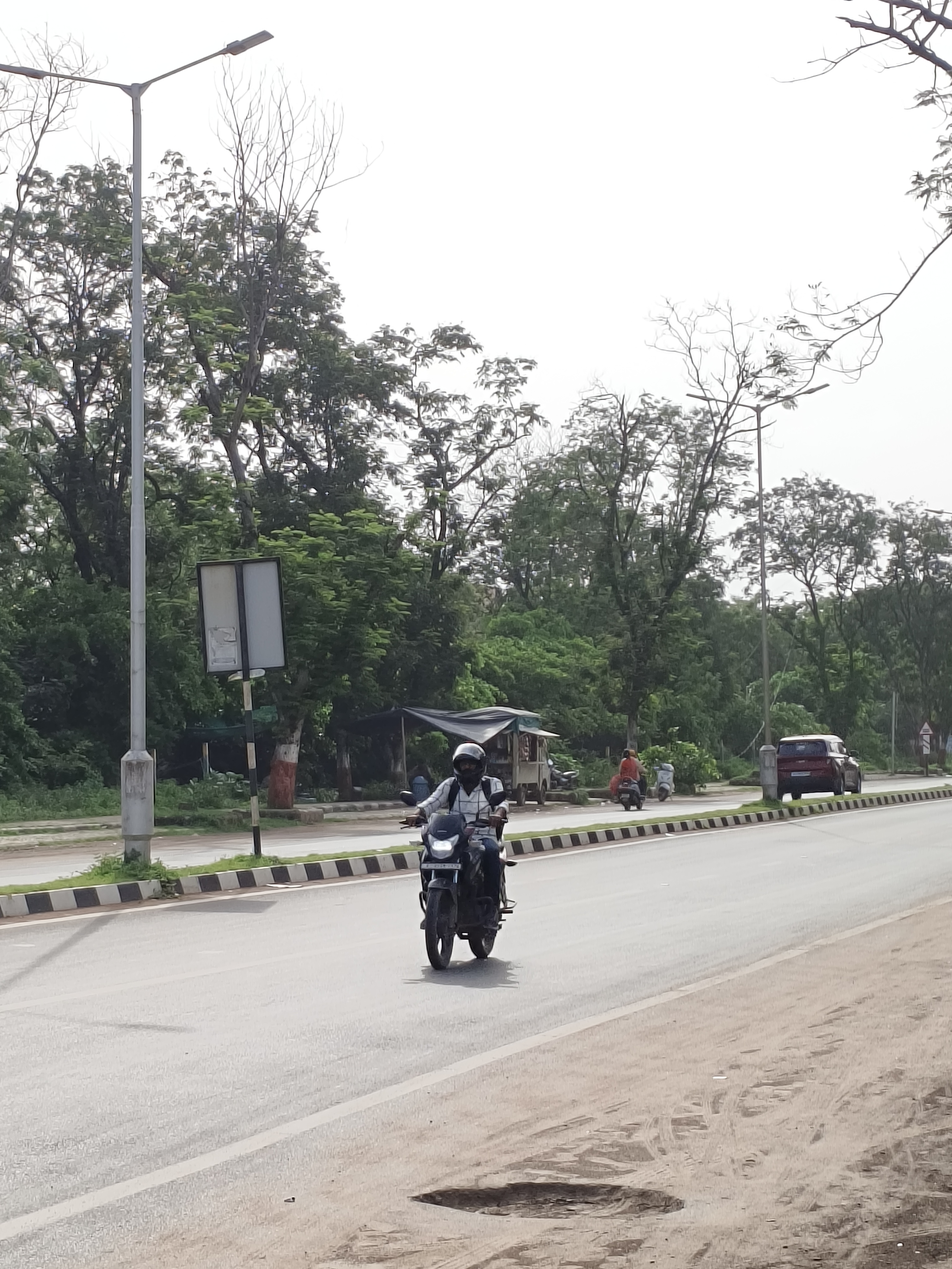BikeWithRider: (394, 735, 526, 976), (606, 743, 651, 815)
Helmet: (447, 739, 491, 790)
